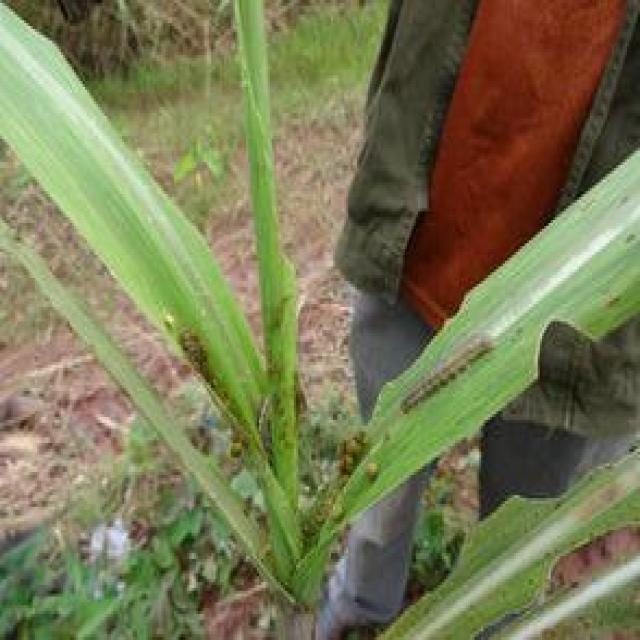pest: (401, 337, 487, 415)
